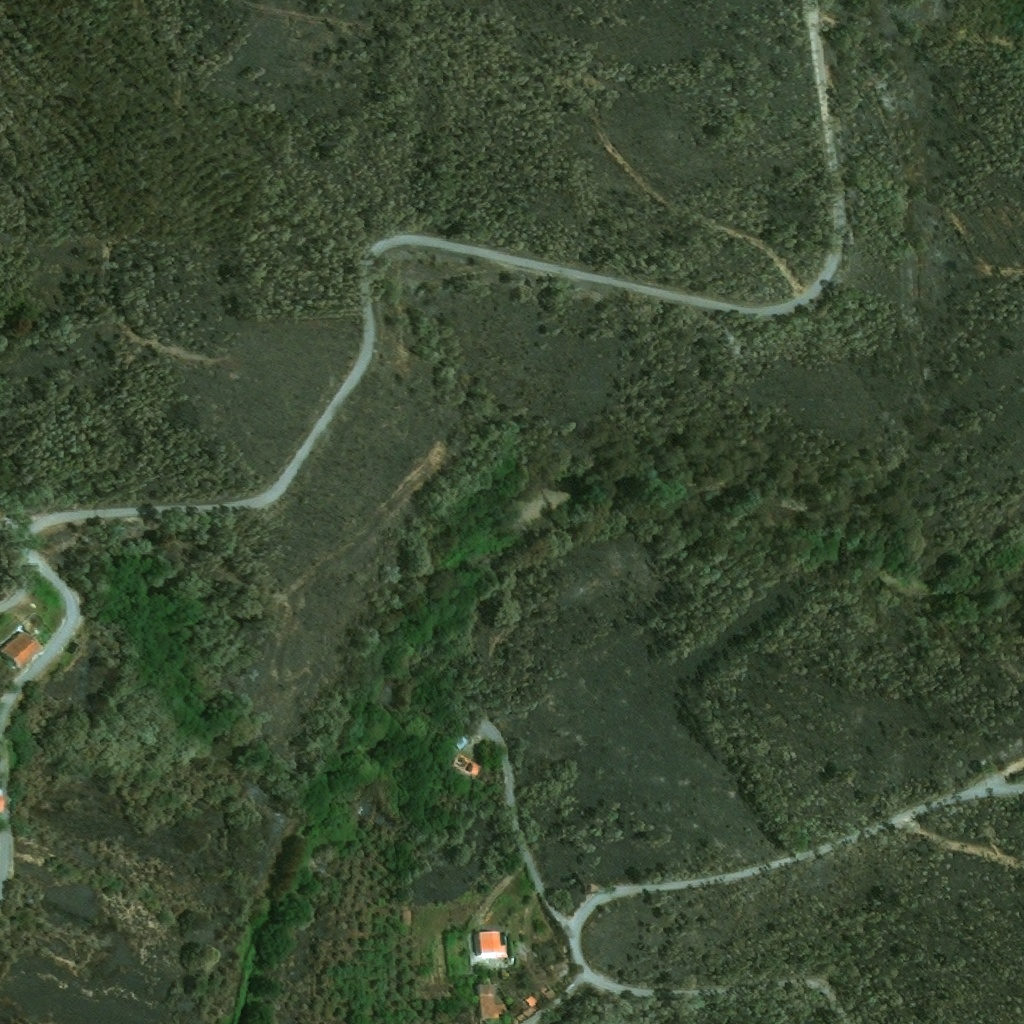0 no-damage: (0, 629, 43, 670), (474, 930, 509, 959), (478, 983, 505, 1018), (450, 753, 481, 781), (453, 735, 469, 751), (0, 794, 4, 813)
4 un-classified: (454, 1012, 475, 1023)
